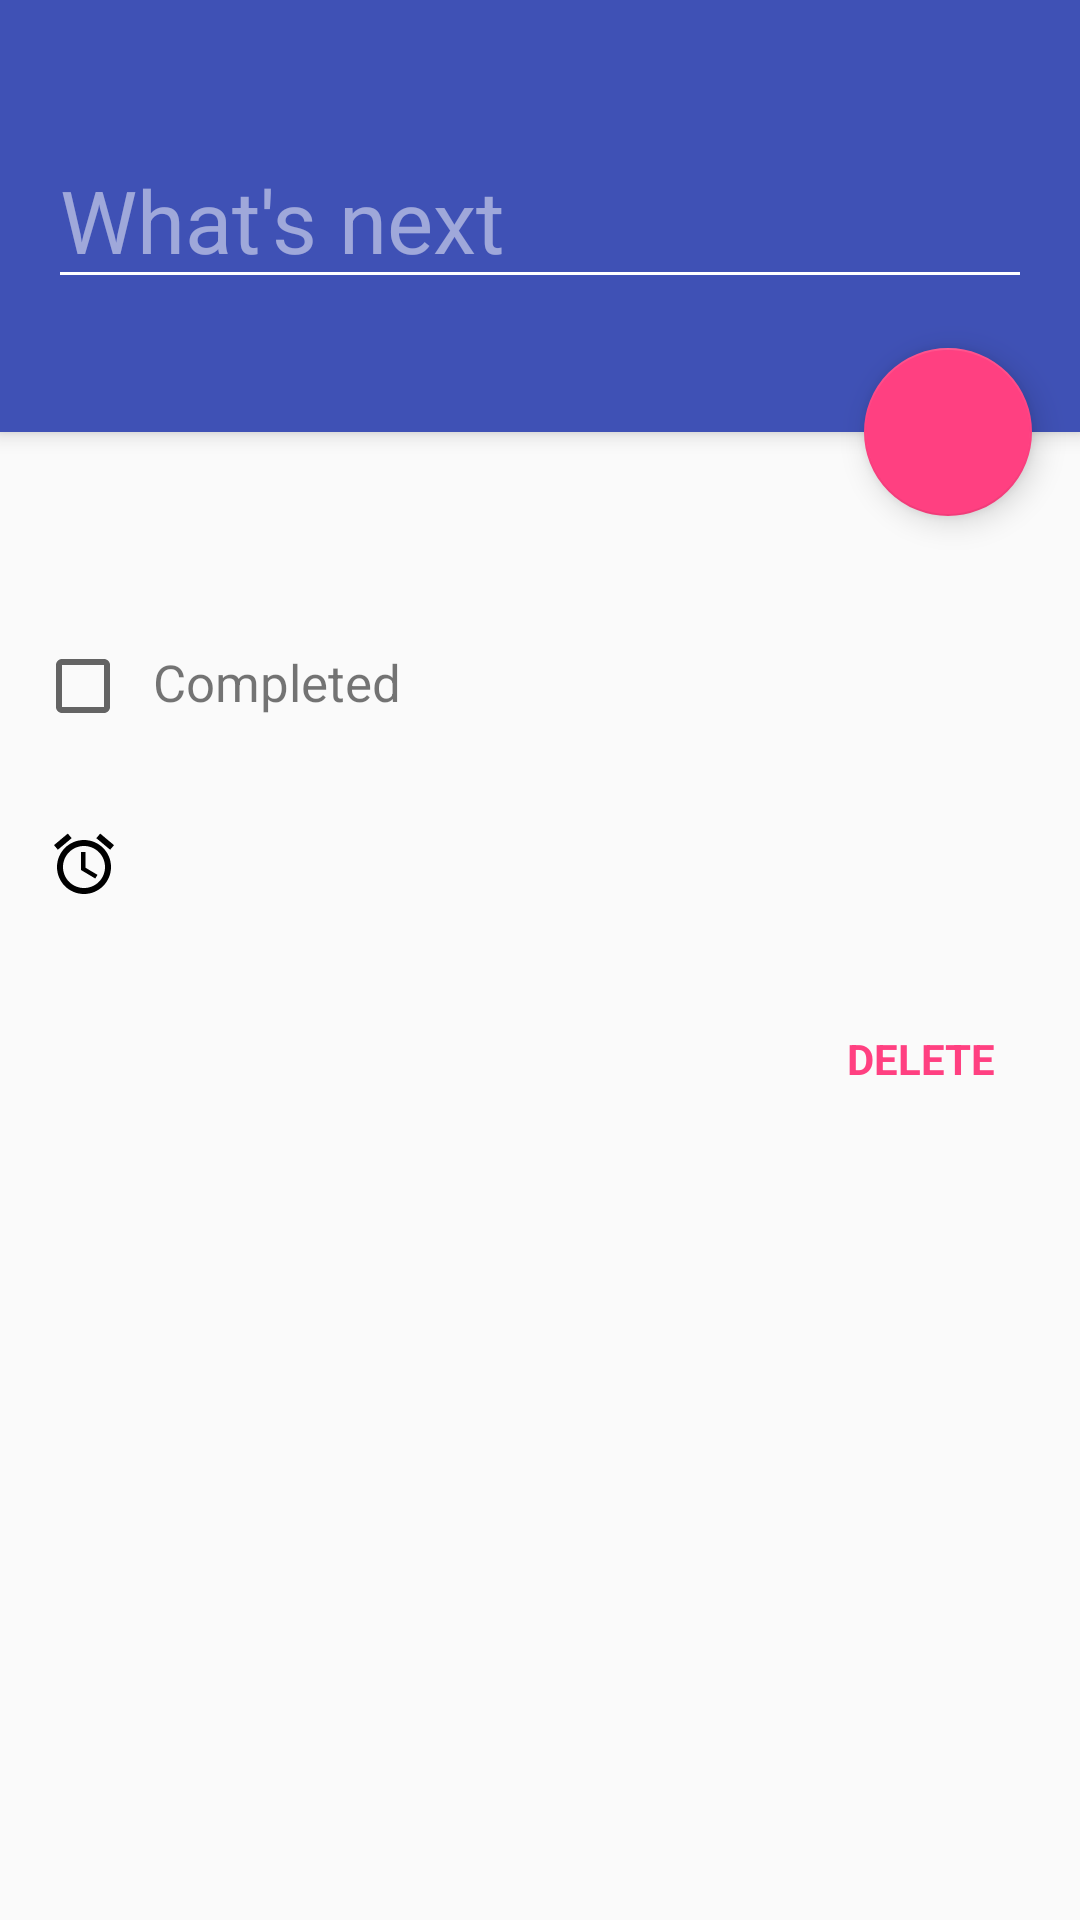

Icon click points for this 1080x1920 phone screenshot, format point (x, y):
alarm: point (84, 863)
